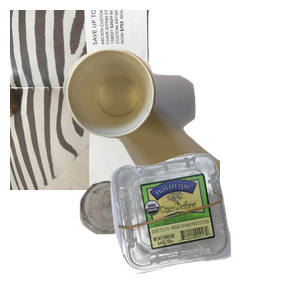glass: (77, 178, 205, 300)
paper: (10, 10, 250, 190)
plastic: (106, 151, 300, 300)
trash: (60, 47, 300, 227)
